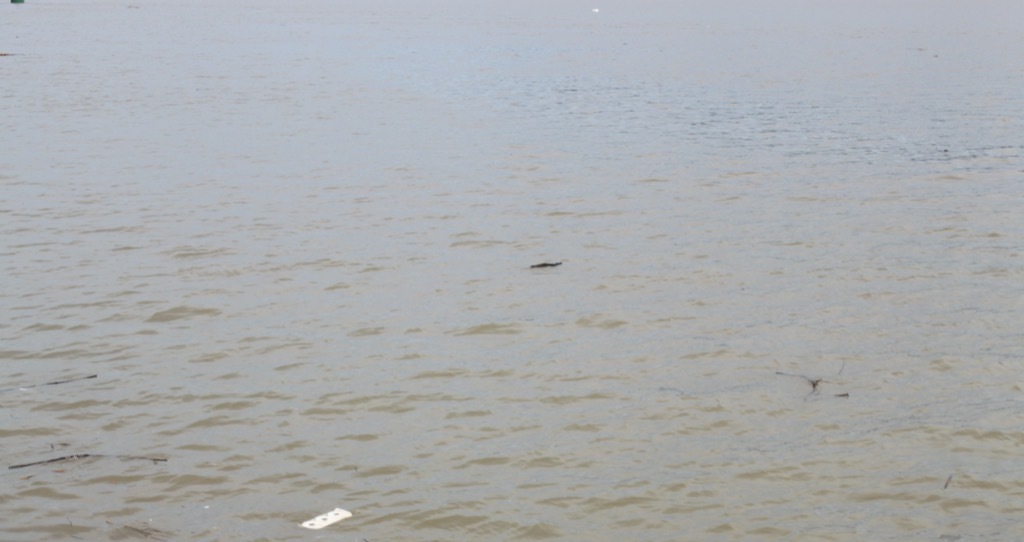organic: (1, 434, 183, 484), (765, 348, 863, 407), (1, 361, 122, 404), (97, 512, 183, 542), (521, 252, 579, 284), (932, 462, 960, 499), (1, 44, 33, 60)
plastic: (279, 490, 366, 542), (589, 6, 601, 14)
structure: (7, 1, 27, 12)
